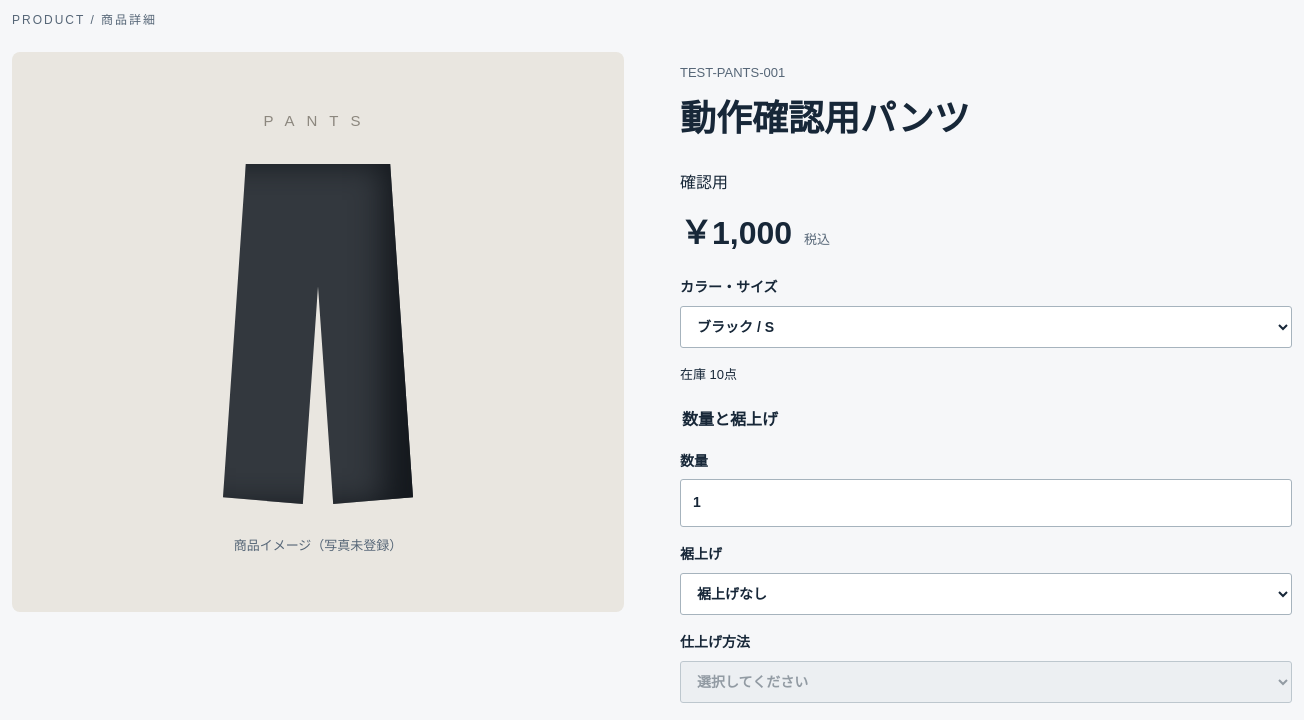
it: UT-WEB-010 範囲エラー応答後SからMへ変更すると範囲表示を更新する
Expected: the heading "動作確認用パンツ" is shown, [680,98,970,140]
Select "裾上げあり" in the dropdown labelled "裾上げ" at (986,594), box [680,573,1292,615]
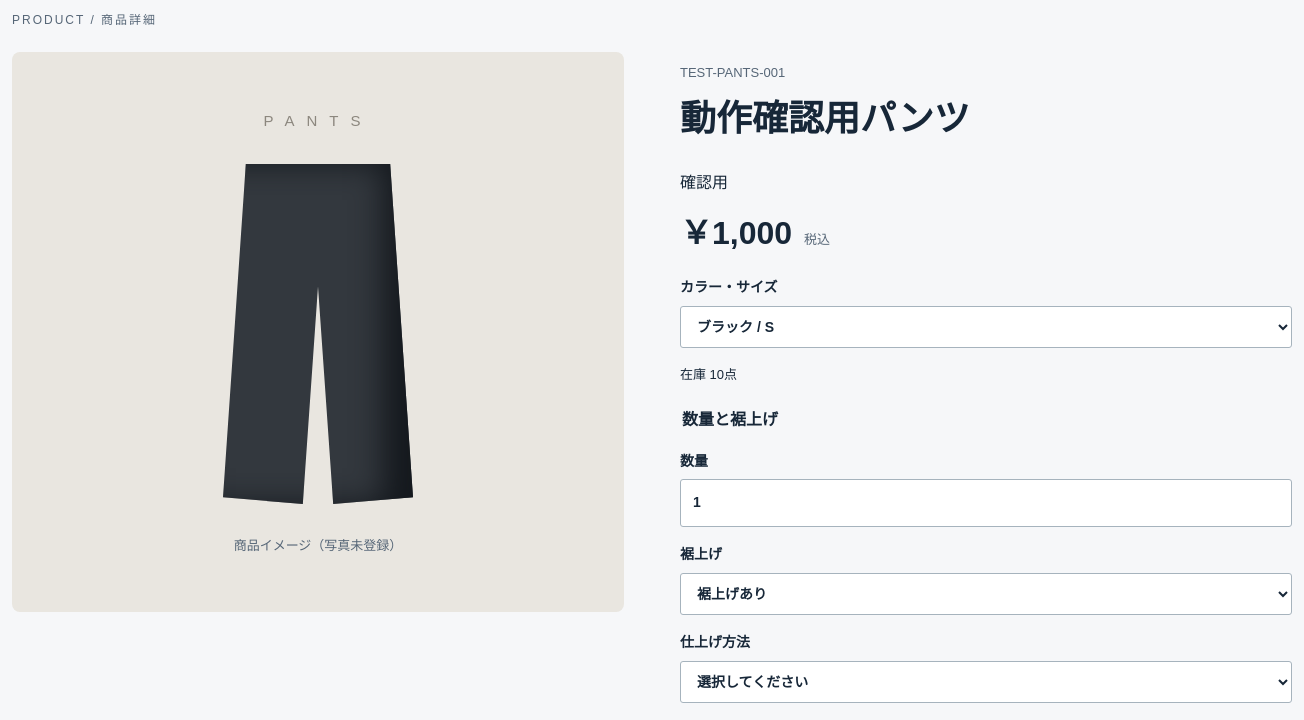
Select "ミシン仕上げ（￥300 / 点）" in the dropdown labelled "仕上げ方法" at (986,682), box [680,661,1292,703]
(page scrolled)
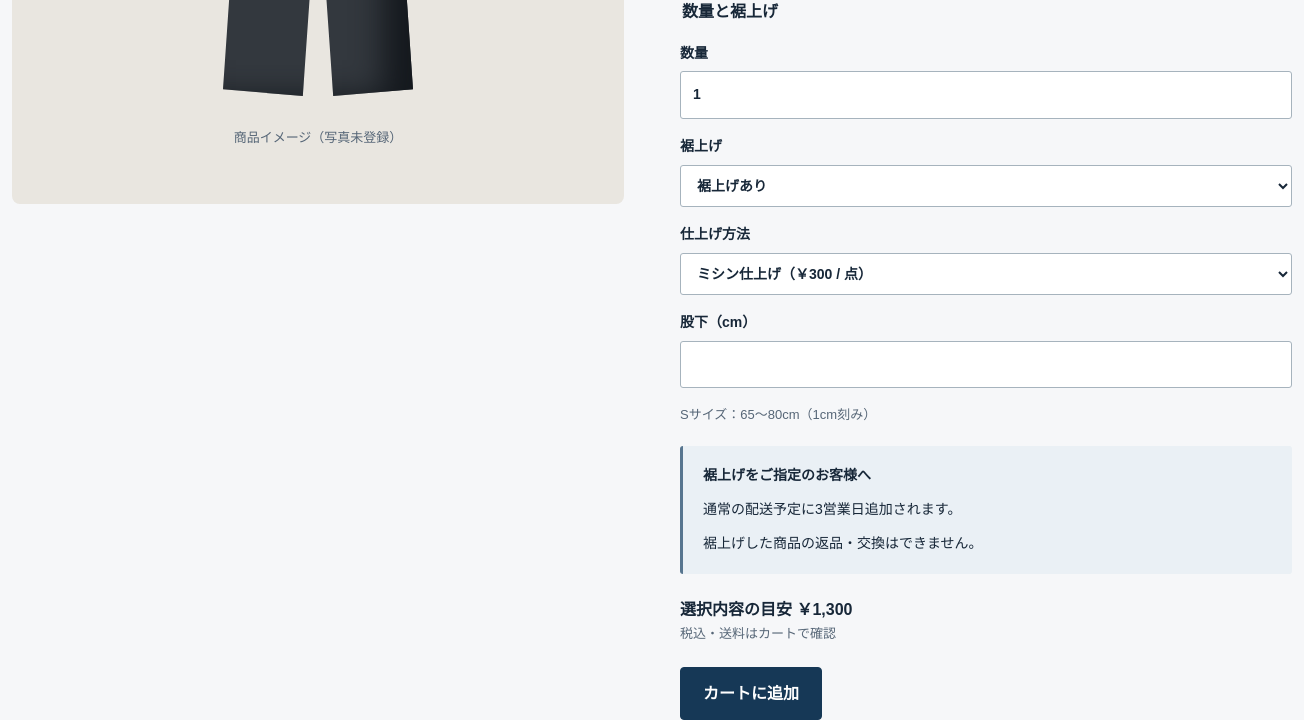
Type "65" into the number field labelled "股下（cm）" at (986,364), box [680,340,1292,388]
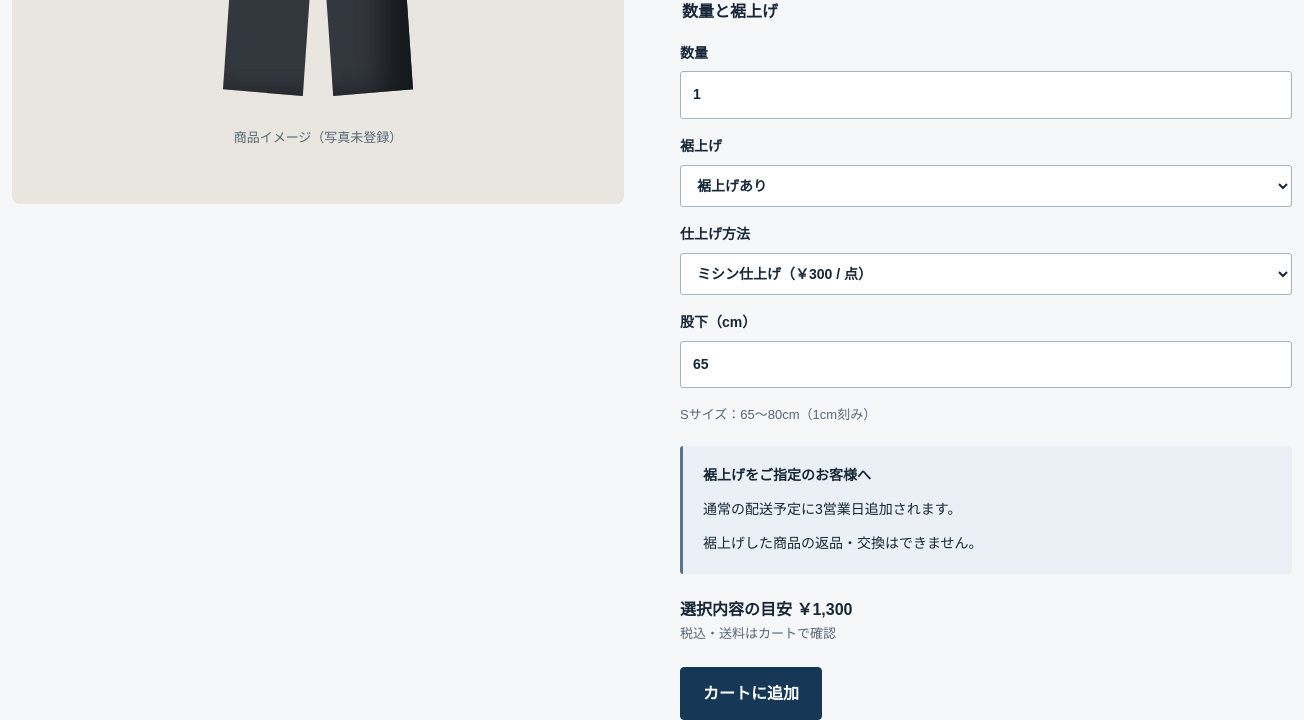
Click the button "カートに追加" at (751,694), box [680,667,822,719]
(page scrolled)
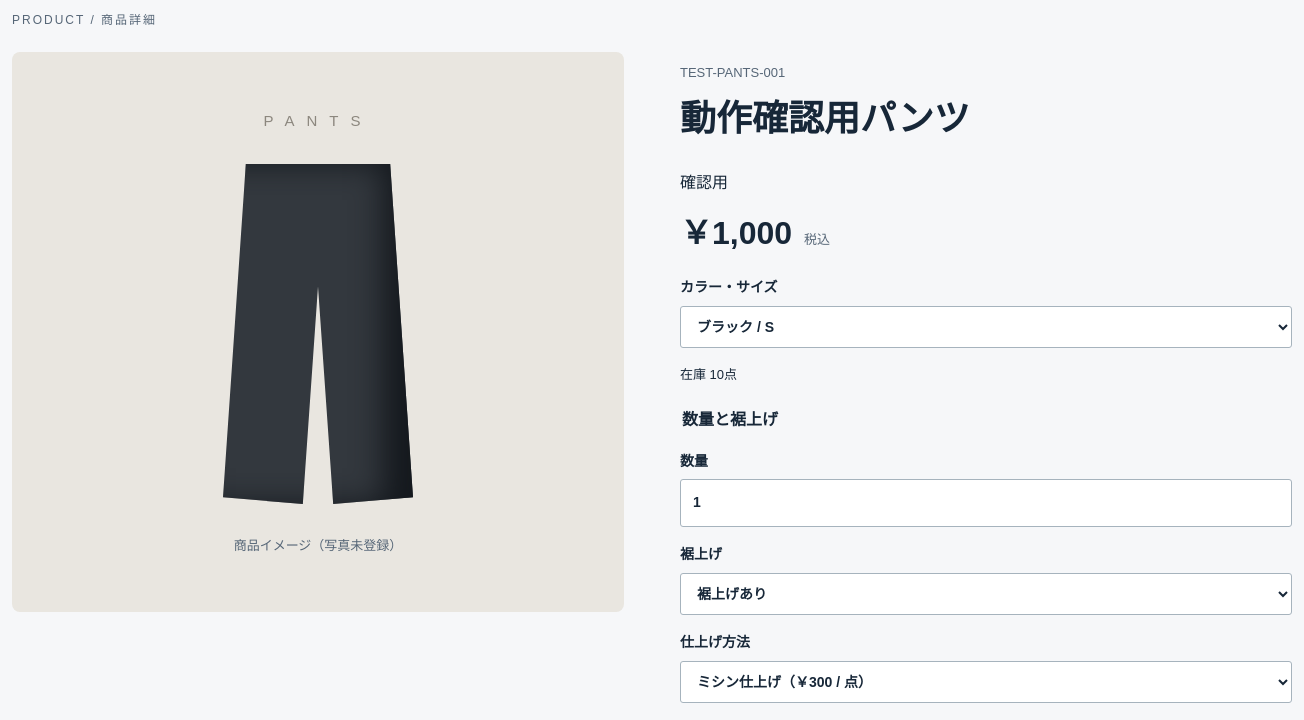
Select "ブラック / M" in the dropdown labelled "カラー・サイズ" at (986,327), box [680,306,1292,348]
(page scrolled)
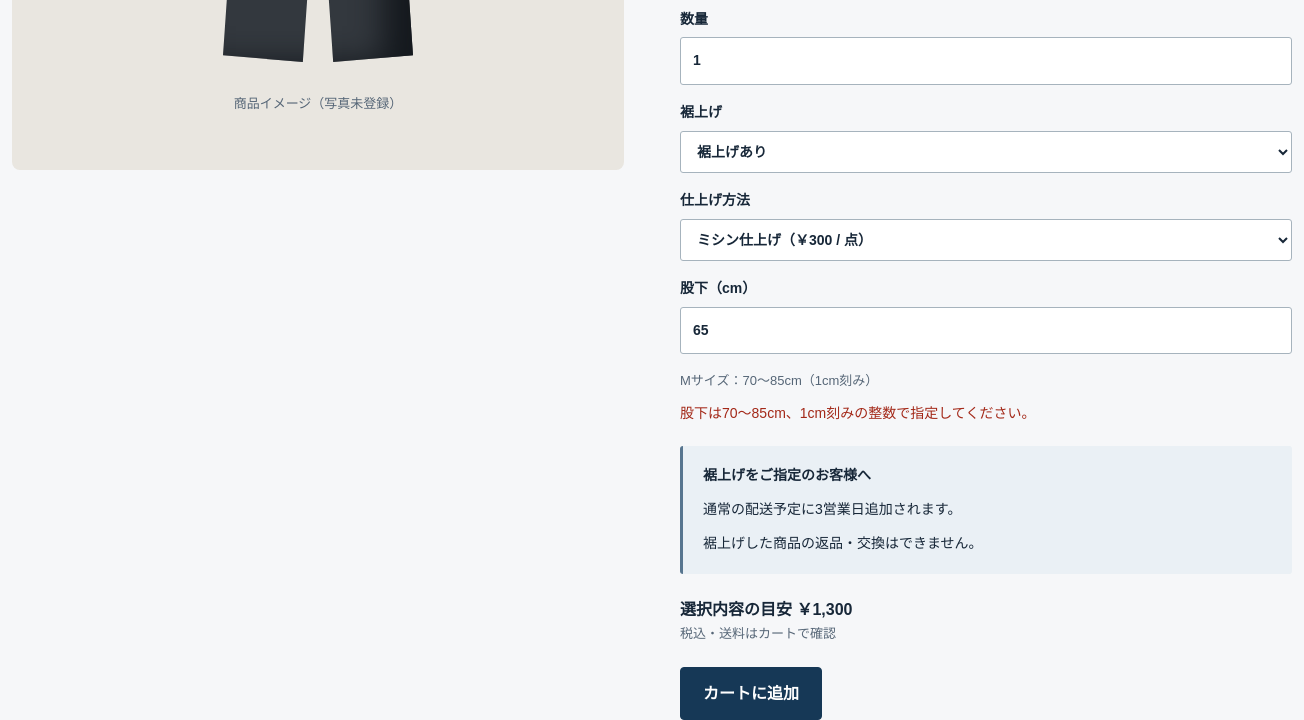
Now the message shows "70～85cm", box [680,405,1035,421]
Now the text "Mサイズ：70～85cm（1cm刻み）" is shown, box [680,373,878,388]
